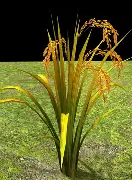crops: (82, 71, 132, 177), (0, 108, 44, 176), (0, 63, 38, 92)
